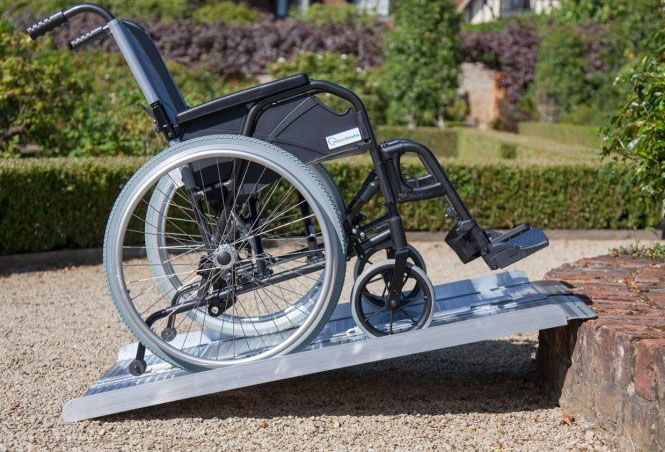wheelchair: (83, 43, 516, 386)
